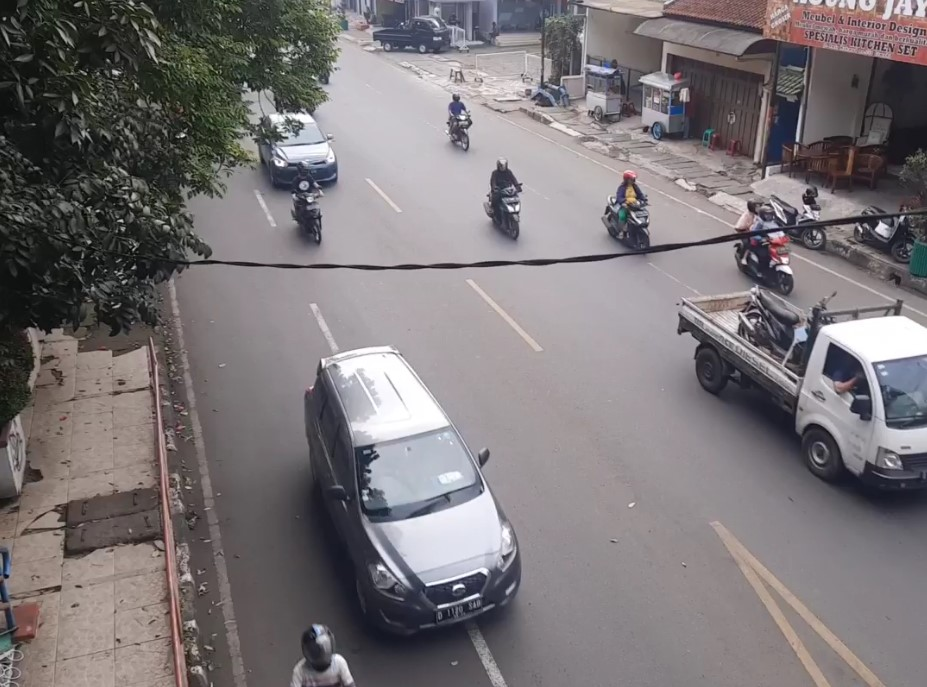mobil: (347, 422, 525, 628), (781, 292, 927, 508), (260, 121, 340, 185)
motor: (728, 189, 805, 297), (601, 170, 651, 257), (484, 156, 525, 243), (289, 165, 331, 244), (443, 92, 473, 155)
